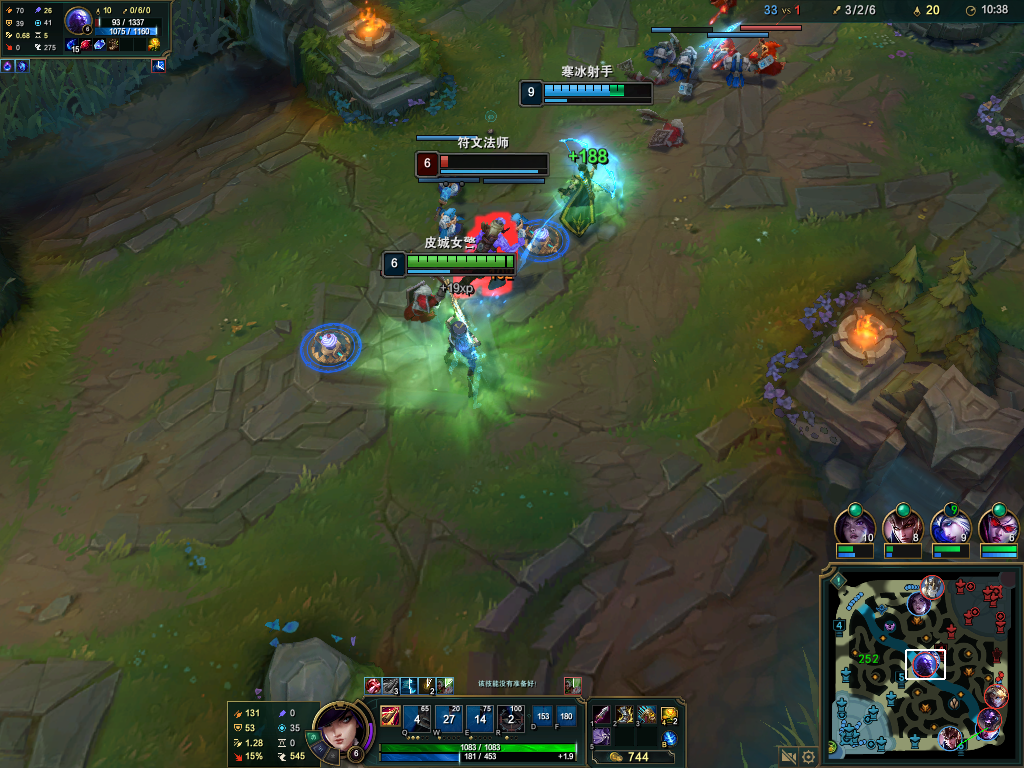DFXB: (754, 37, 788, 72), (406, 291, 432, 320)
DFYX: (437, 155, 548, 169)
WFXB: (676, 46, 704, 99), (717, 49, 752, 90), (648, 39, 677, 76), (440, 183, 458, 207), (442, 213, 461, 233)
